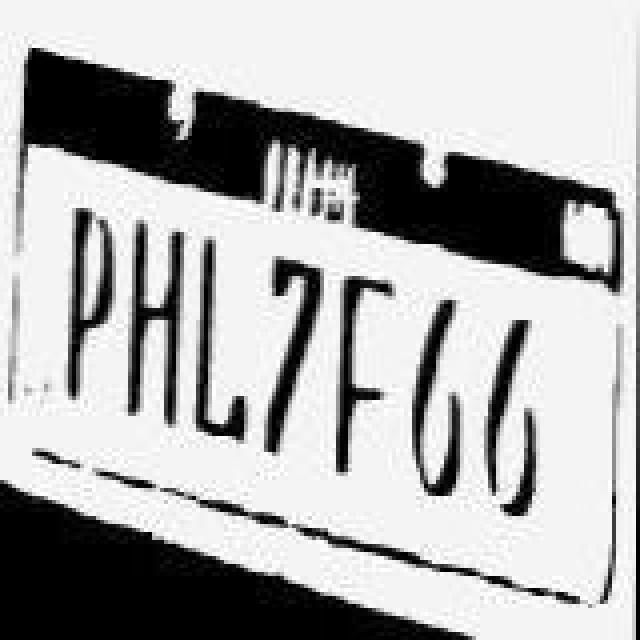6: (484, 314, 552, 526), (408, 282, 468, 502)
7: (264, 242, 324, 462)
F: (338, 258, 394, 502)
H: (120, 212, 188, 436)
L: (194, 230, 250, 458)
P: (60, 198, 112, 426)
